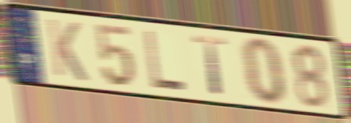0: (237, 35, 290, 108)
5: (92, 21, 137, 88)
8: (291, 42, 331, 109)
K: (45, 16, 90, 84)
L: (143, 28, 188, 93)
T: (191, 34, 230, 98)
